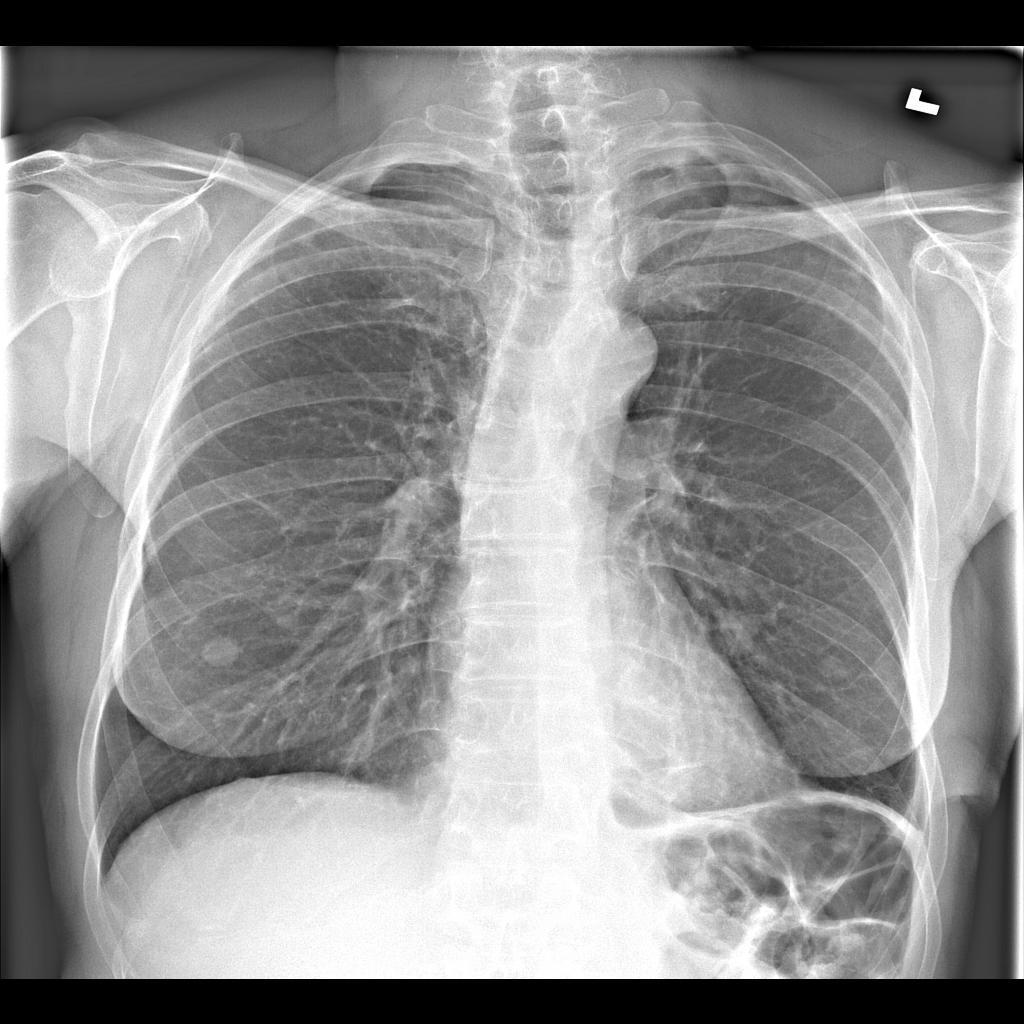Nodule: (710, 599, 768, 659)
